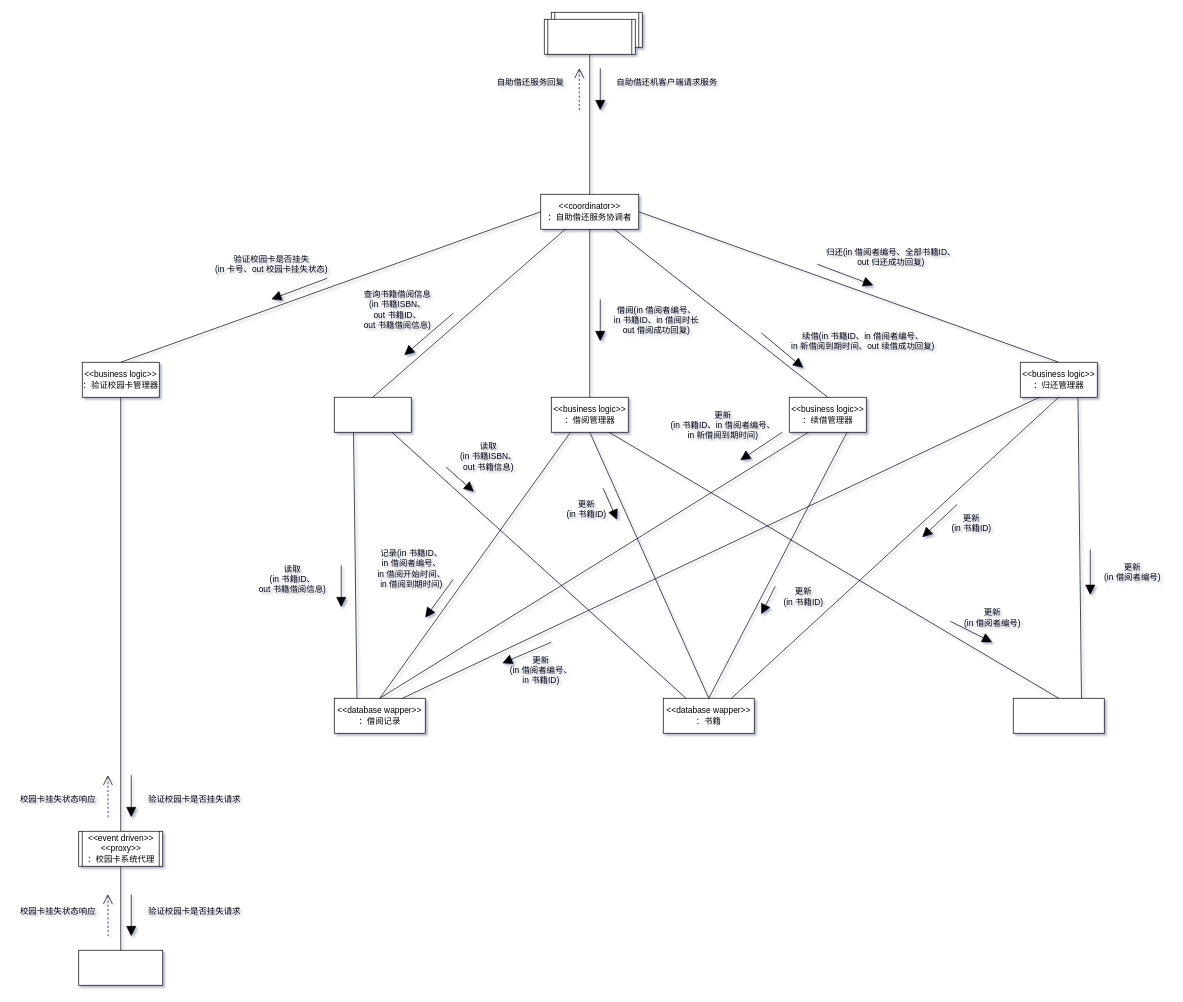
The diagram is 1183 pixels wide and 1002 high, and some of its shapes have lost their labels. Here are the shapes that lost their labels. From the top down, the centre of each, then its label:
(589,36): <<client>> <<subsystem>> ：自助借还机客户端
(372,414): <<business logic>> ：获取书籍借阅信息管理器
(1058,715): <<database wapper>> ：校园卡
(120,967): <<event driven>> <<external system>> ：校园卡系统
